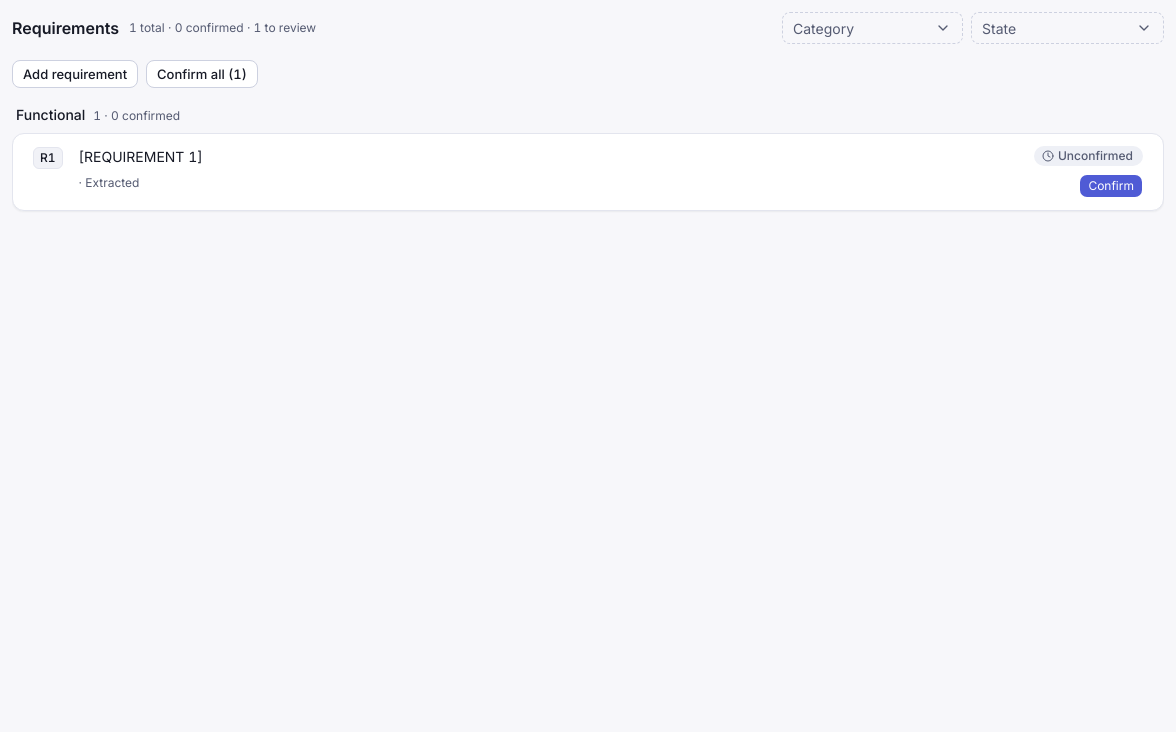
Scenario: editing Requirements inline › a double-click on the text edits; blur saves; Esc reverts without saving
Step 1. Double-click the button "[REQUIREMENT 1]" → [141, 156], box [79, 146, 1018, 167]
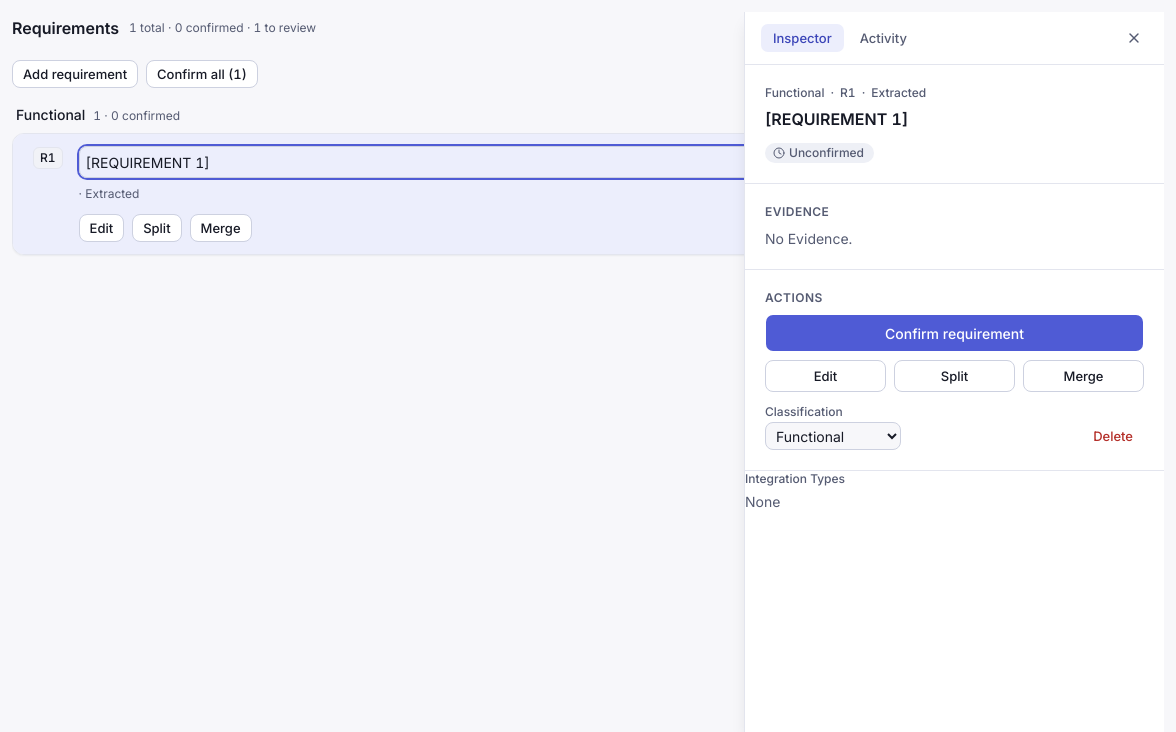
Step 2. Replace the text in the field named "Requirement text" with "Never saved." → [548, 162], box [79, 146, 1018, 178]
Then press Escape
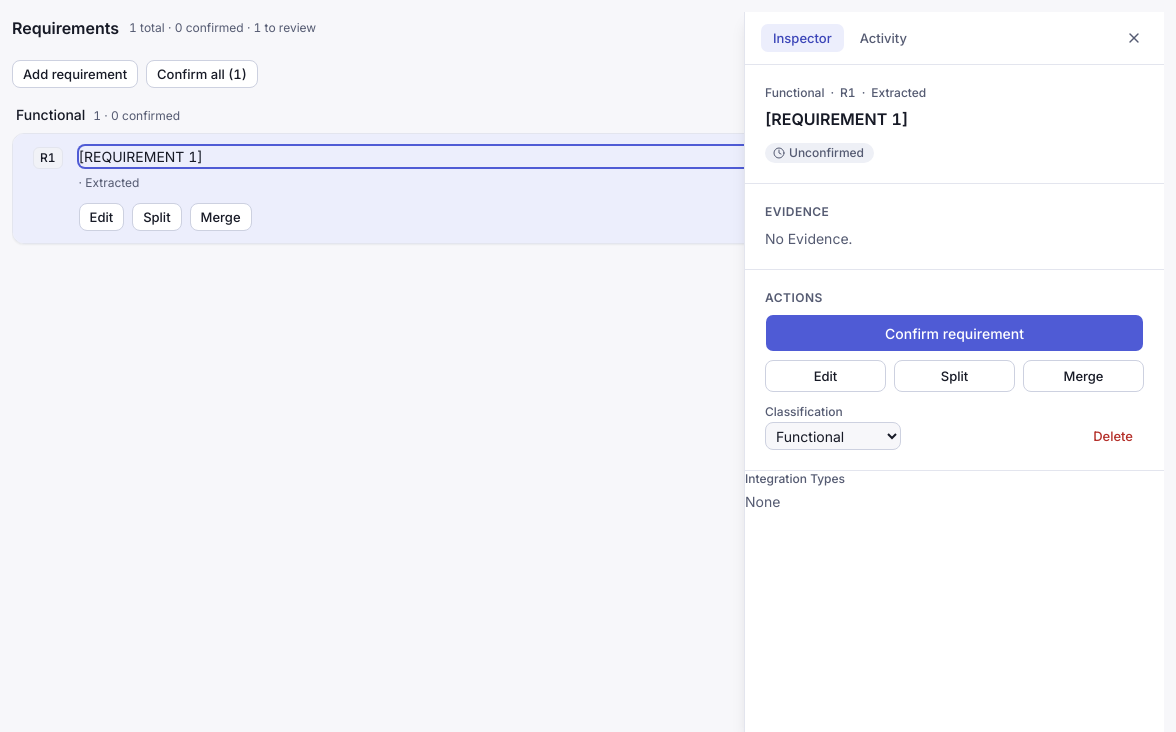
Check: the button "[REQUIREMENT 1]" is shown
Step 3. Double-click the button "[REQUIREMENT 1]" → [141, 156], box [79, 146, 1018, 167]
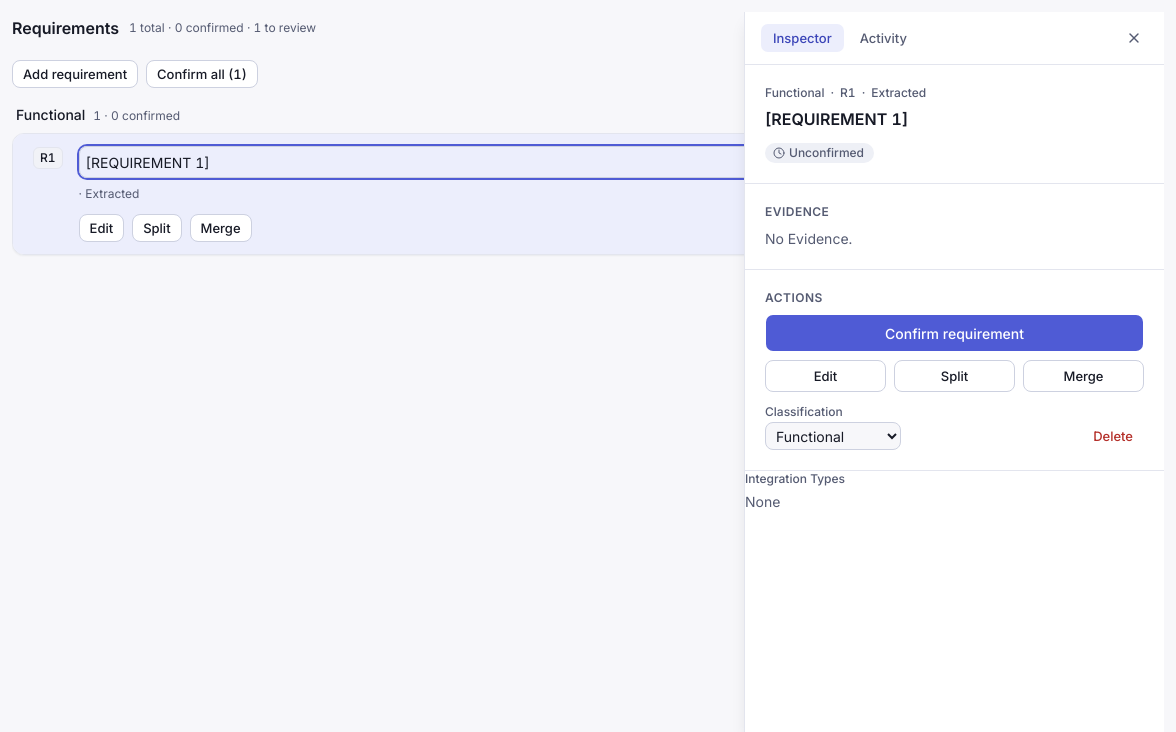
Step 4. Replace the text in the field named "Requirement text" with "On blur." → [548, 162], box [79, 146, 1018, 178]
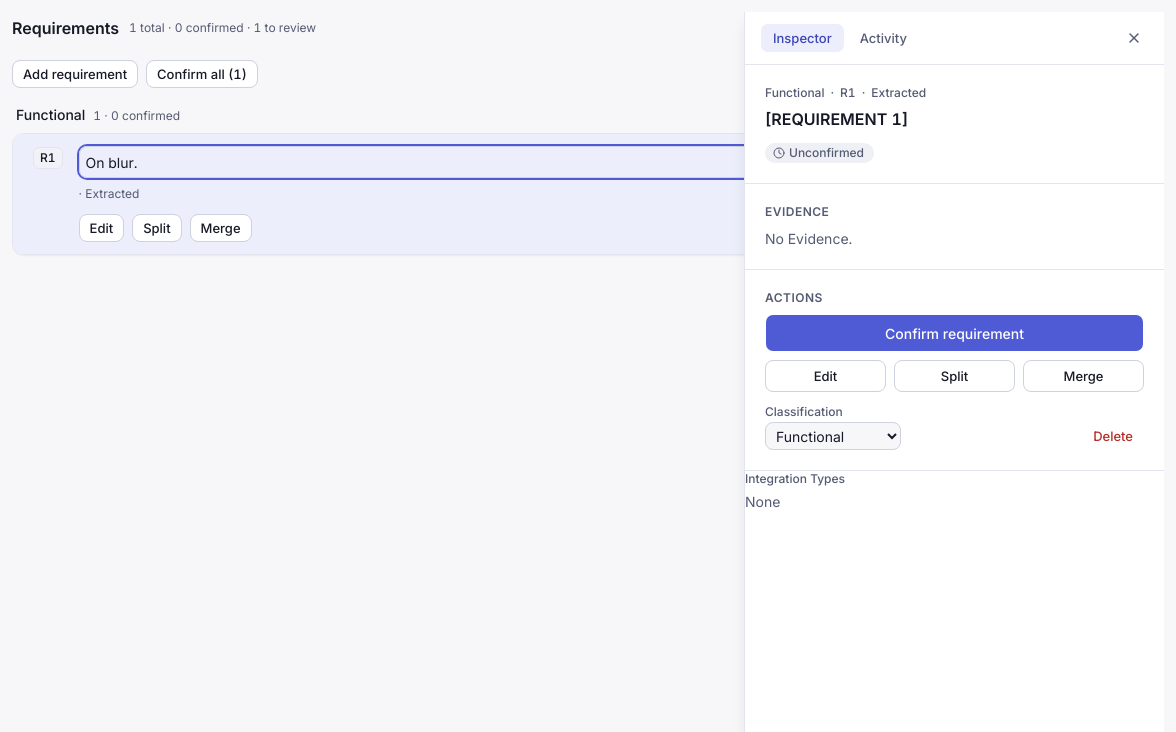
Step 5. Click the element that starts with "Requirements" → [588, 372], box [12, 12, 1164, 731]
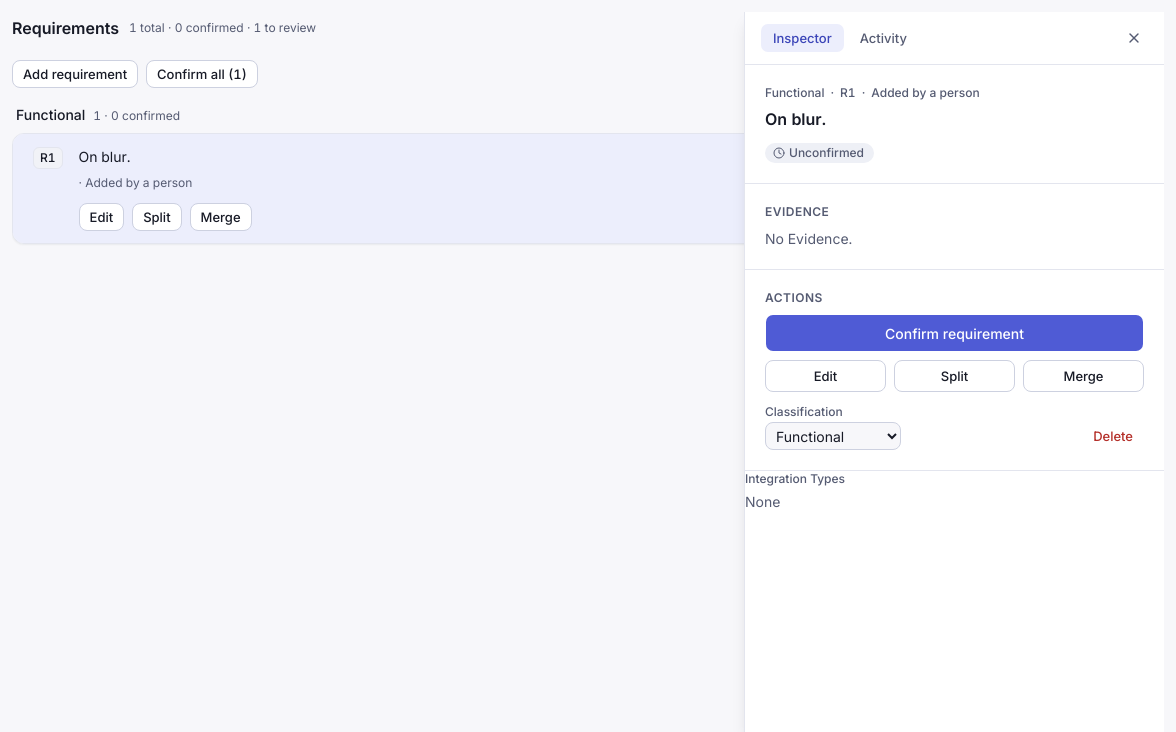
Check: the button "On blur." is shown, box [79, 146, 1018, 167]
